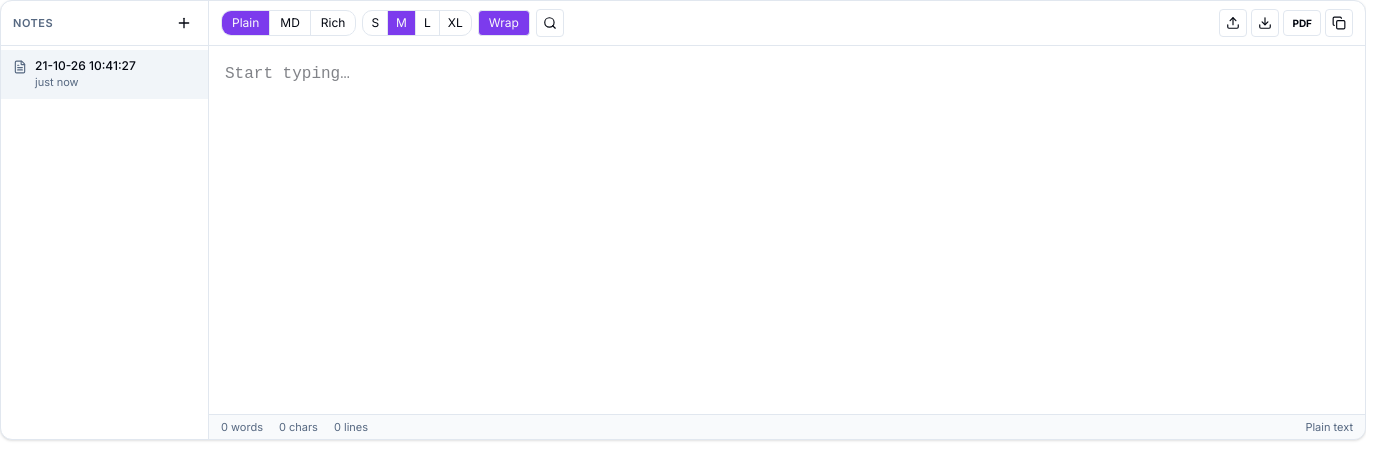
Test case: EditorPad › performs replace-all in plain mode
The width and height of the screenshot is (1378, 458).
Type "foo bar foo" into the text box with placeholder "Start typing…" at (787, 230), box top-left (209, 46), bottom-right (1365, 414)
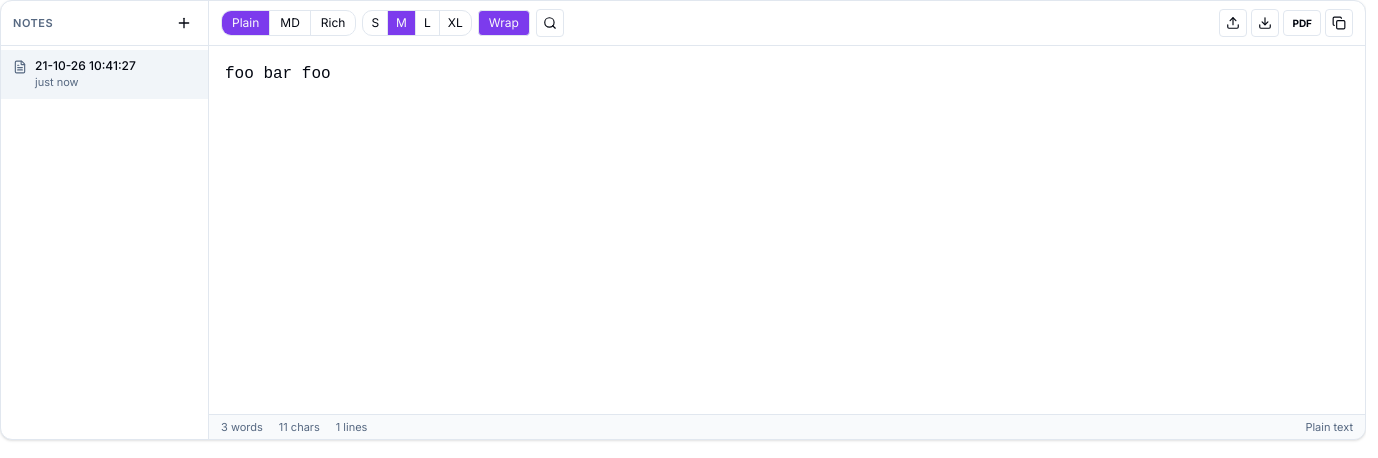
Click the button titled "Find & Replace (Ctrl+H)" at (550, 23), box top-left (536, 9), bottom-right (564, 37)
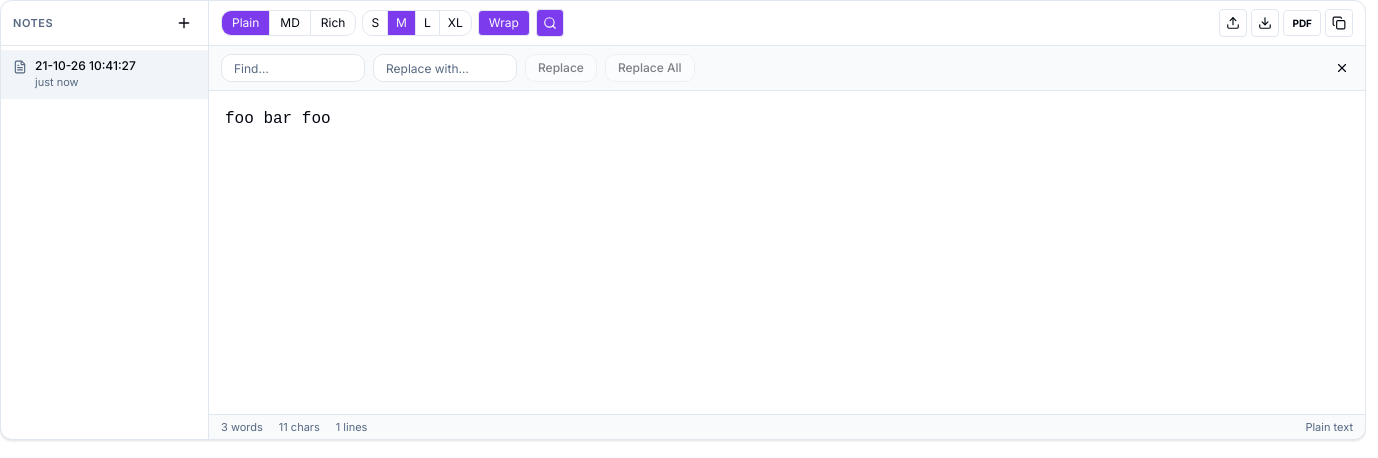
Type "foo" into the field with placeholder "Find…" at (293, 68), box top-left (221, 54), bottom-right (365, 82)
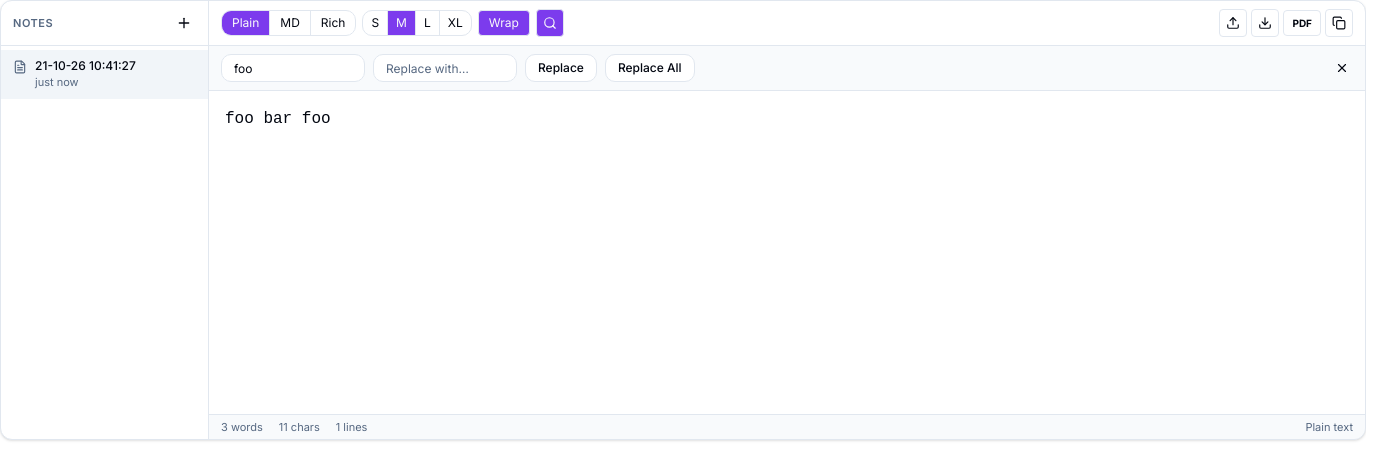
Type "baz" into the field with placeholder "Replace with…" at (445, 68), box top-left (373, 54), bottom-right (517, 82)
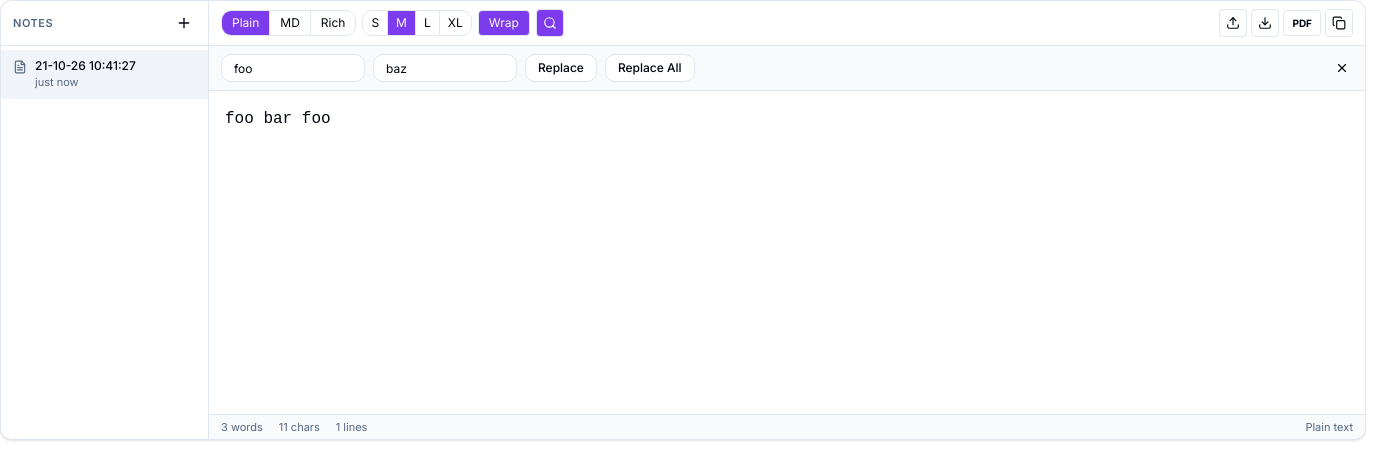
Click the button "Replace All" at (650, 68), box top-left (605, 54), bottom-right (695, 82)
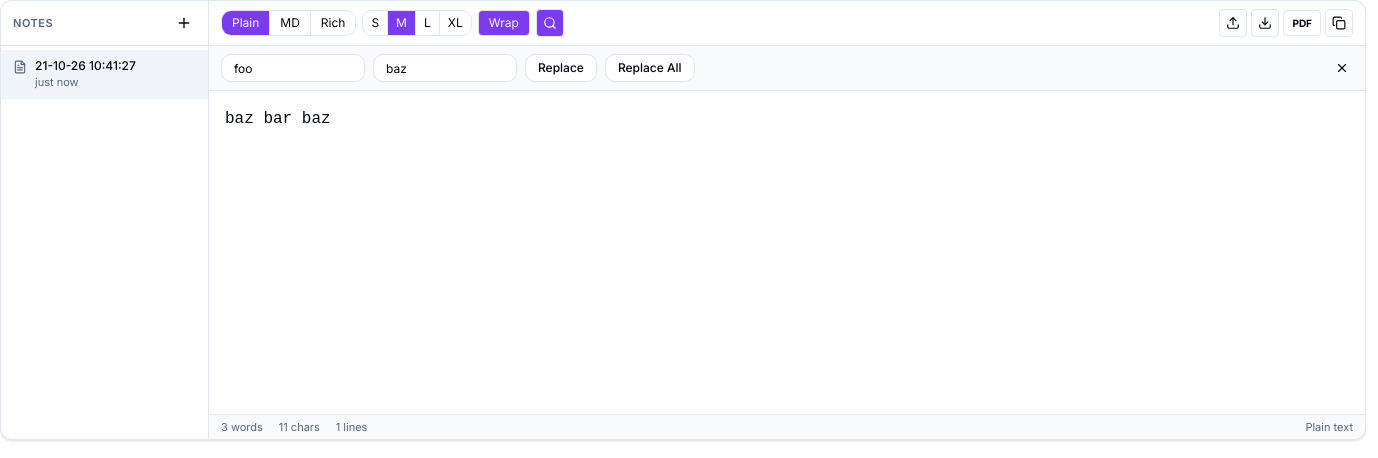
Expected: the text box with placeholder "Start typing…" holds "baz bar baz", top-left (209, 91), bottom-right (1365, 414)
